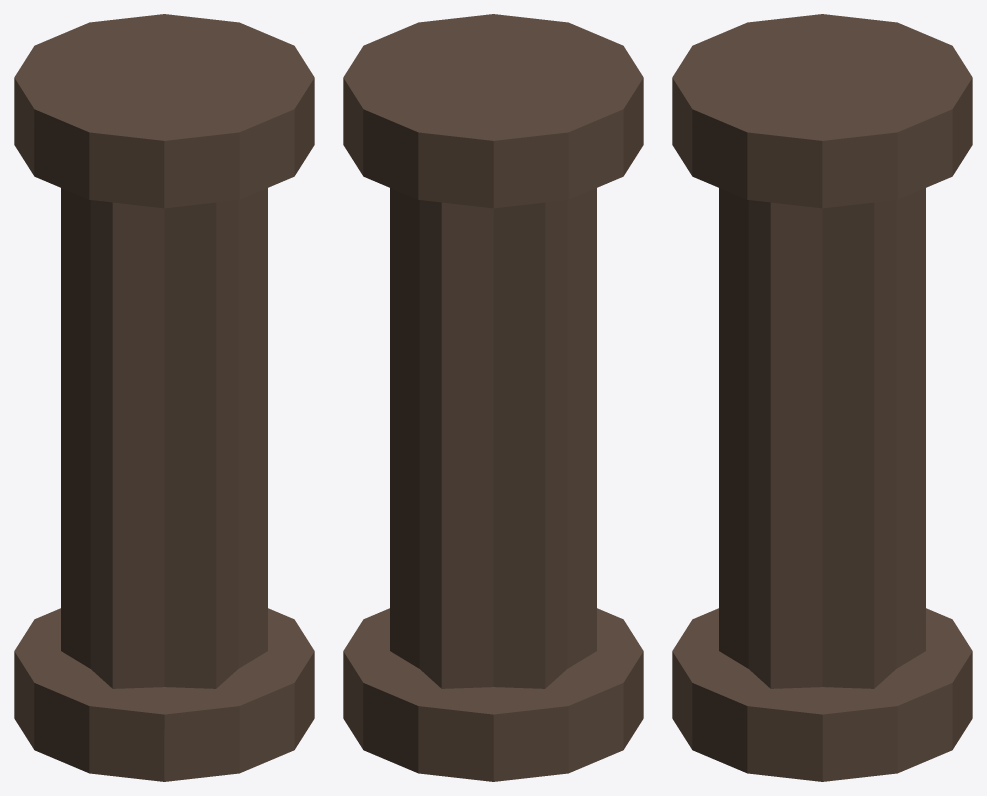
Rendered from Column_MDL.fbx.
The picture shows the model from 3 angles, left to right: view 1: azimuth 30°, elevation 25°; view 2: azimuth 150°, elevation 25°; view 3: azimuth 270°, elevation 25°; orthographic projection.
Visible parts, largest first — view 1: Icosphere.002; view 2: Icosphere.002; view 3: Icosphere.002.
Part boxes in pixels (x1,y1,x2,y2): Icosphere.002: (14,14,314,781); Icosphere.002: (343,14,643,781); Icosphere.002: (672,14,972,781).
Bounding box in the file's own units: 162 × 380 × 162.
